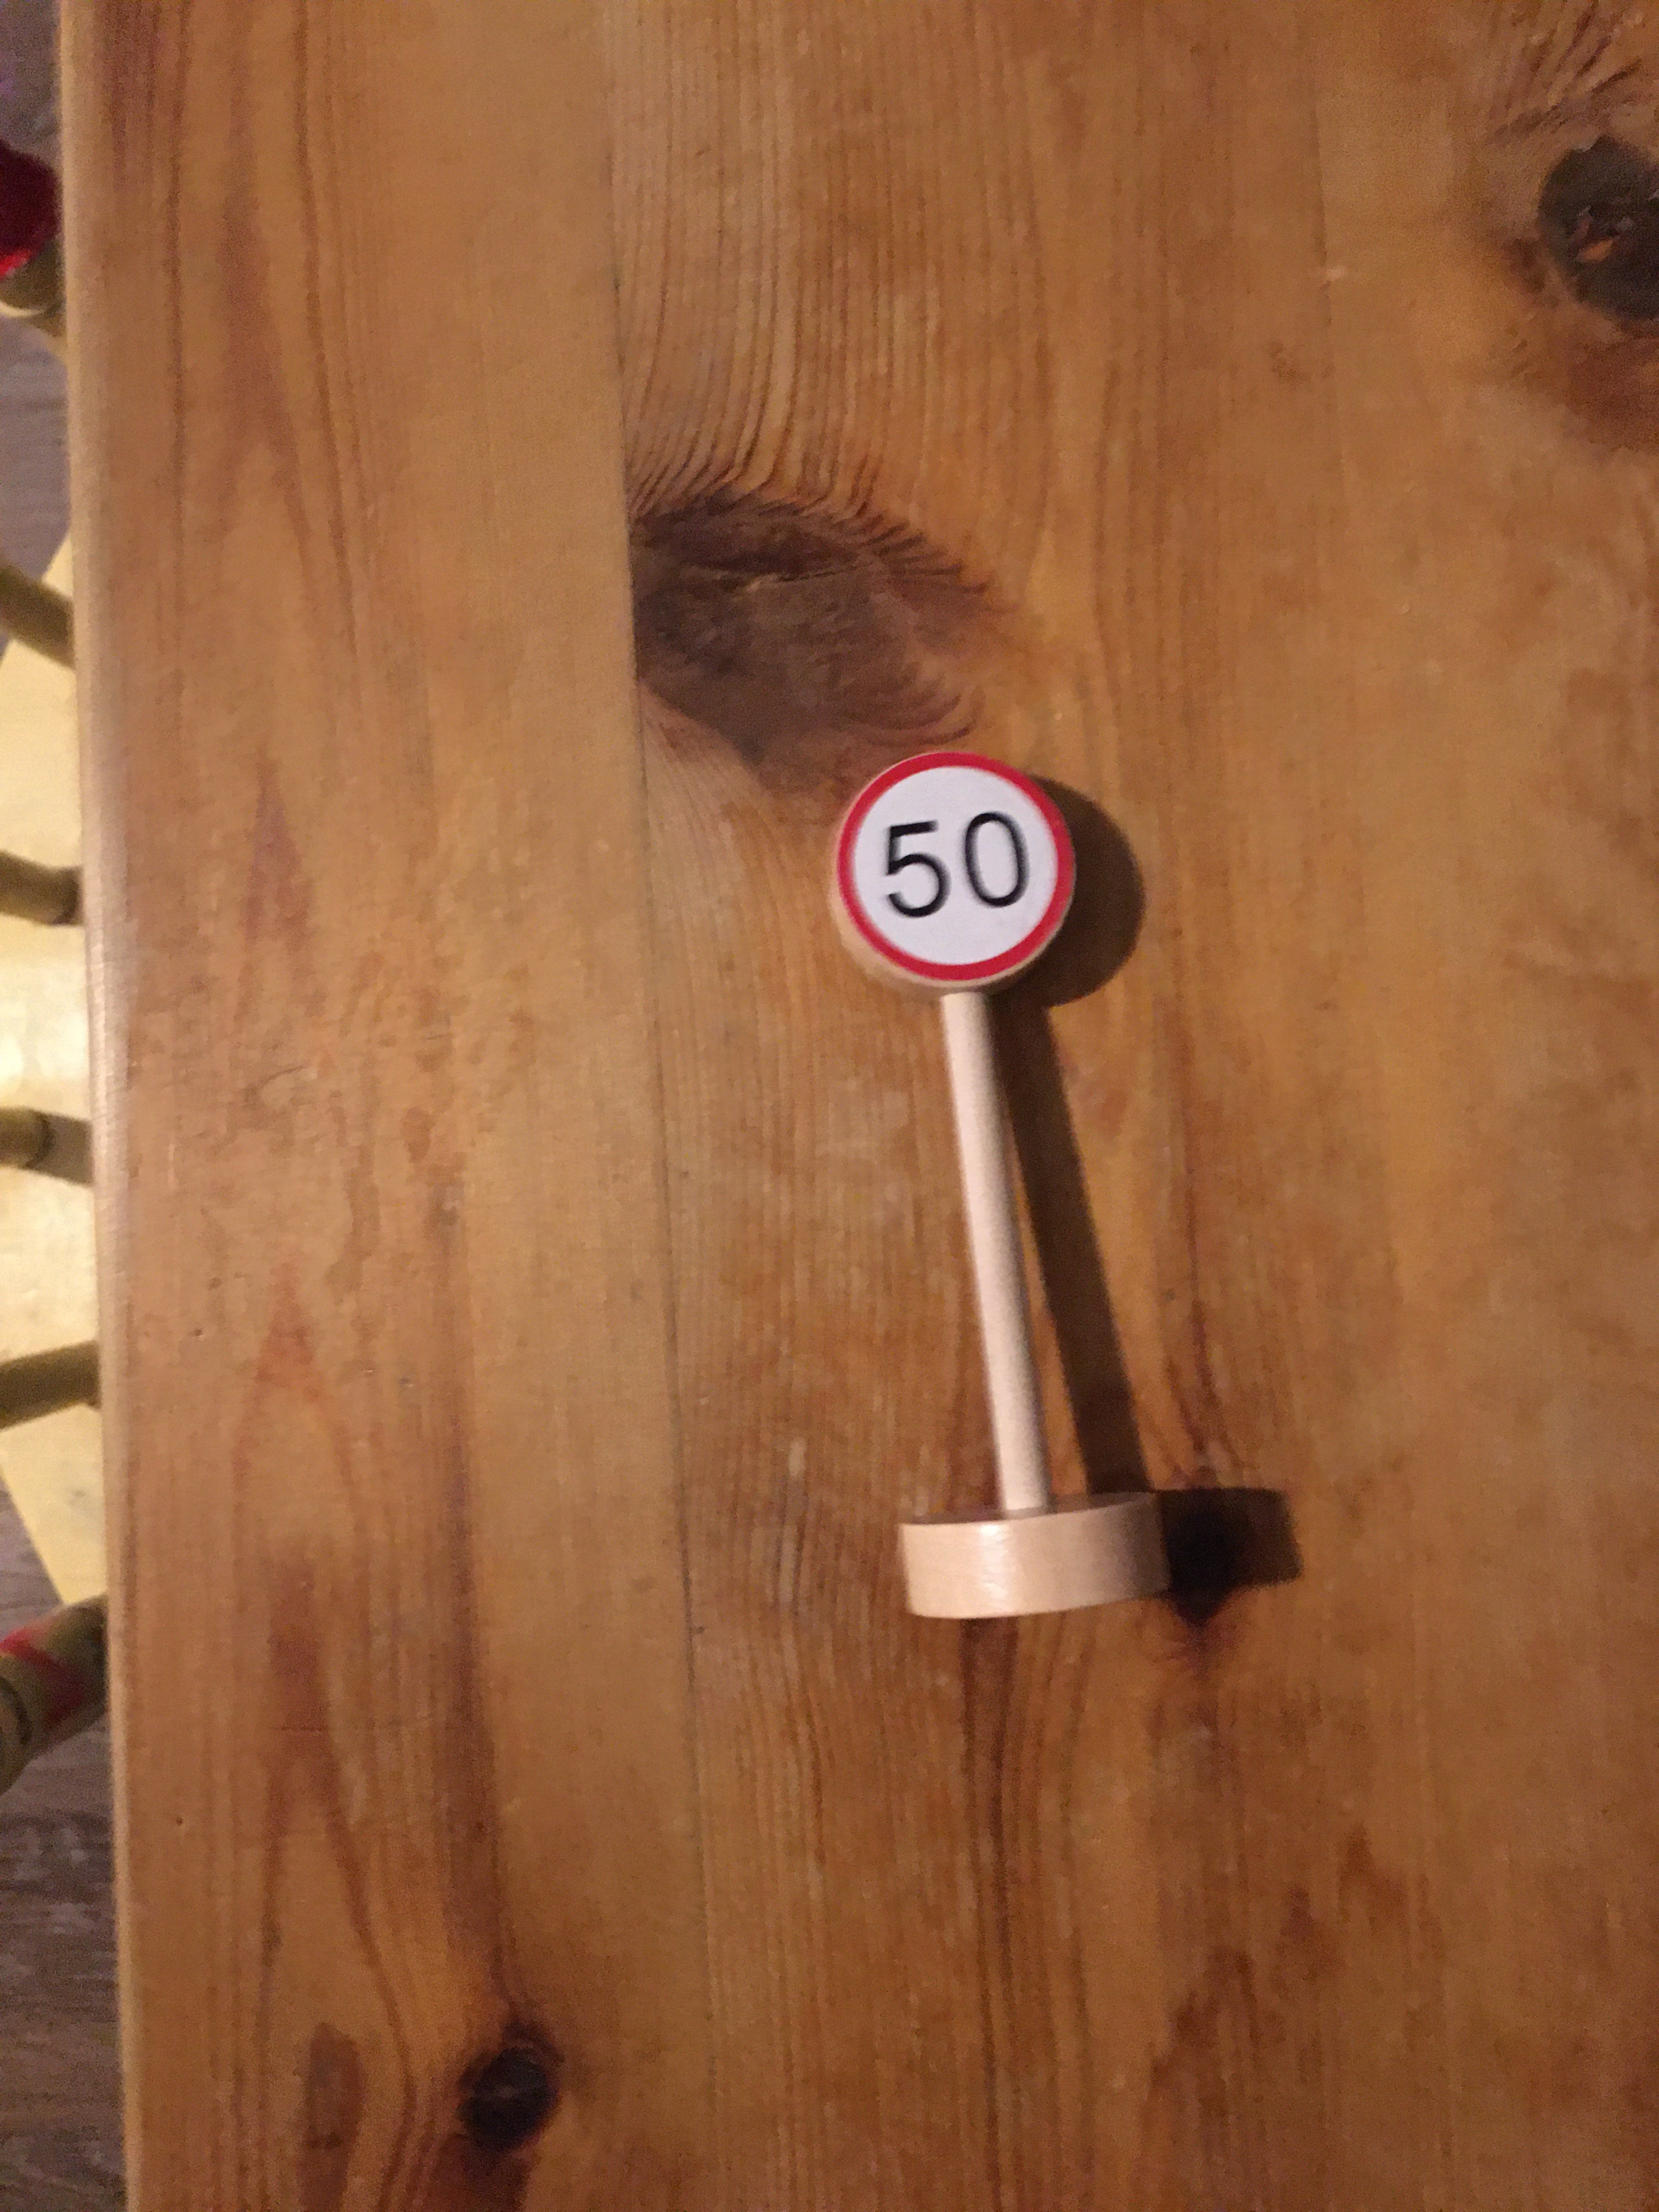Traffic_Sign_50: (833, 747, 1084, 982)
